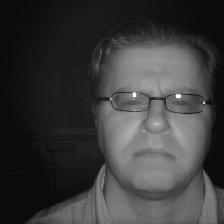normal: (86, 27, 224, 199)
